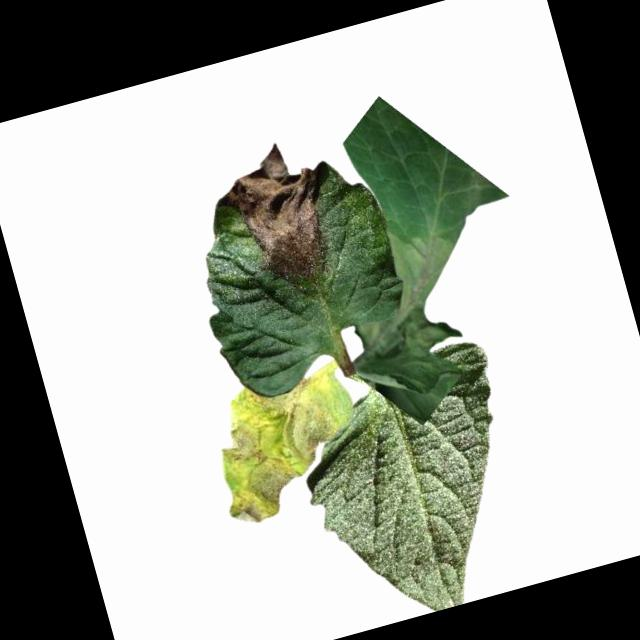Late_blight: (198, 366, 358, 529), (329, 211, 481, 372), (212, 133, 345, 293)
